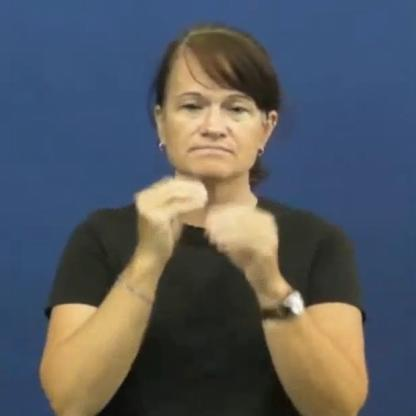Fix: (124, 156, 295, 308)
